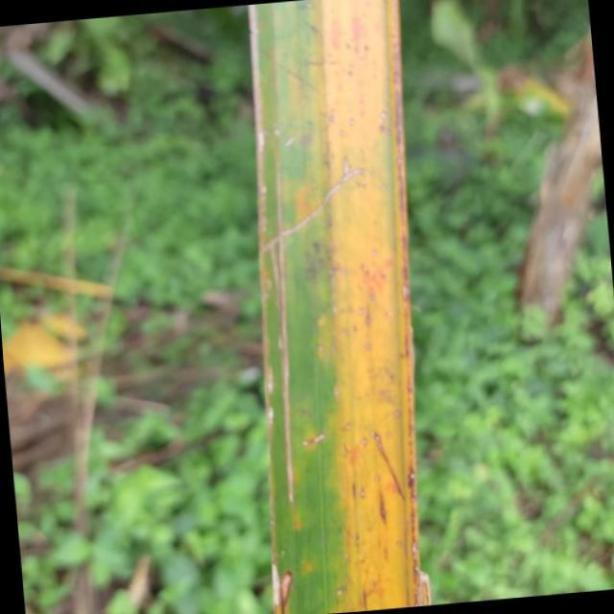Megnesium: (253, 0, 417, 614)
